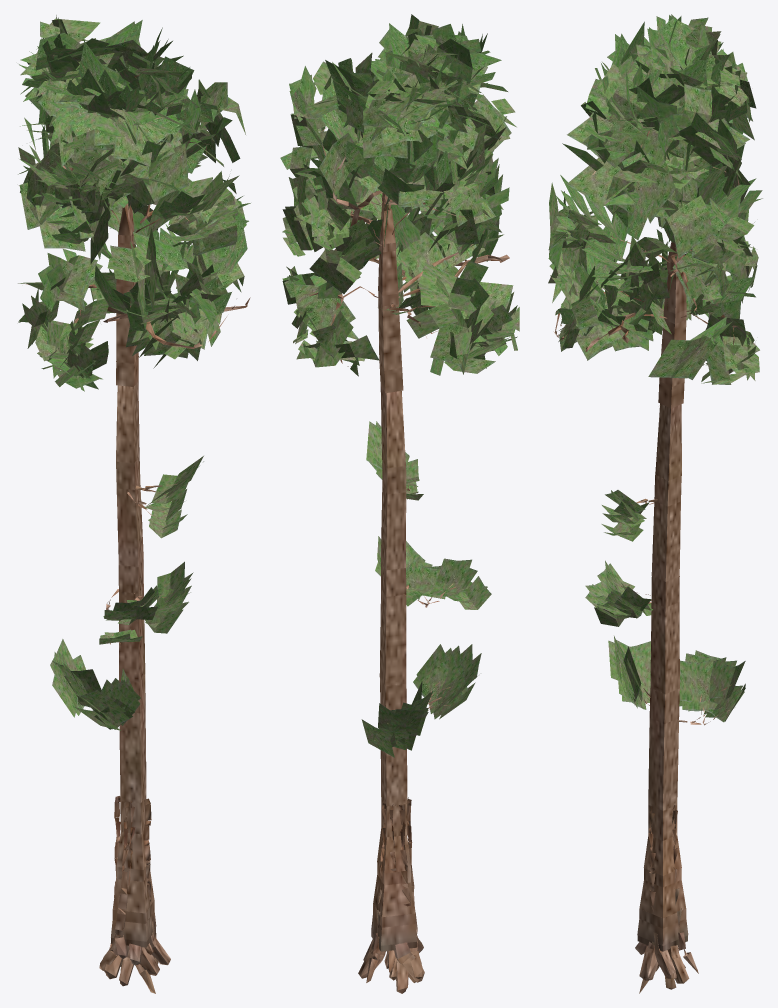
The model's file is tree_9.obj.
3 renders of one model, left to right at view 1: azimuth 30°, elevation 25°; view 2: azimuth 150°, elevation 25°; view 3: azimuth 270°, elevation 25°, orthographic. The views are drawn at different scales.
Visible parts, largest first — view 1: Tall_Pin; view 2: Tall_Pin; view 3: Tall_Pin.
Boxes of the visible parts, left/top/right/bottom form: Tall_Pin: left=18, top=15, right=250, bottom=993; Tall_Pin: left=280, top=14, right=519, bottom=993; Tall_Pin: left=548, top=14, right=762, bottom=993.
Bounding box in the file's own units: 0.7469 × 3.57 × 0.7418.
1 material, 1 textured.
